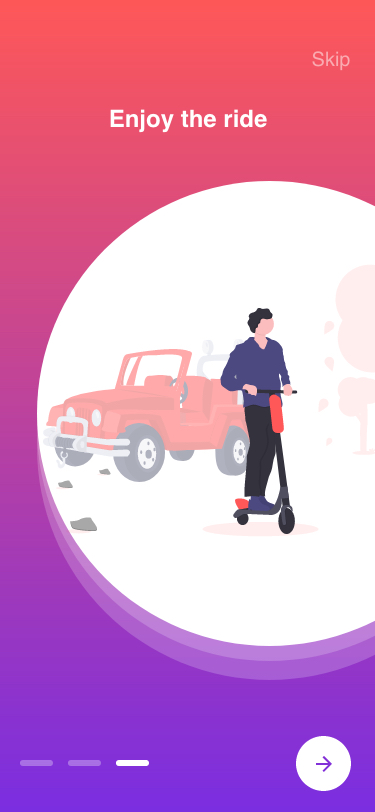Icon: (296, 735, 352, 792)
Image: (43, 266, 375, 537)
PageIndicator: (20, 759, 151, 767)
Text: (111, 109, 268, 134), (312, 51, 350, 72)
